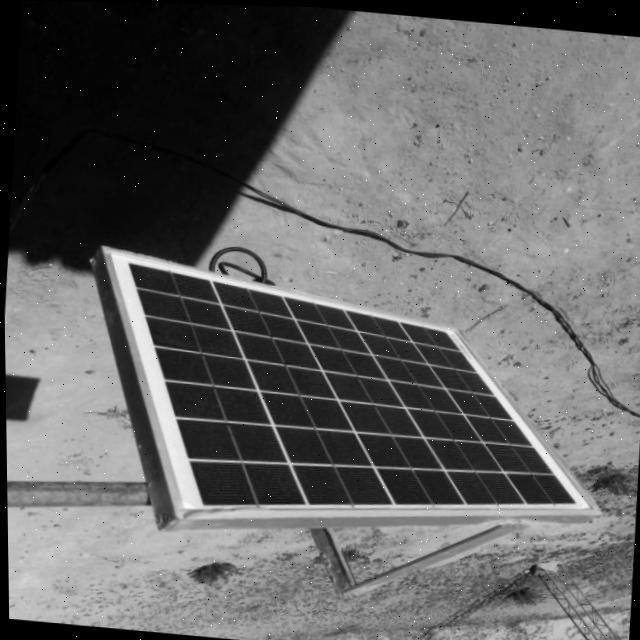Normal Solar Panel: (82, 246, 612, 552)
